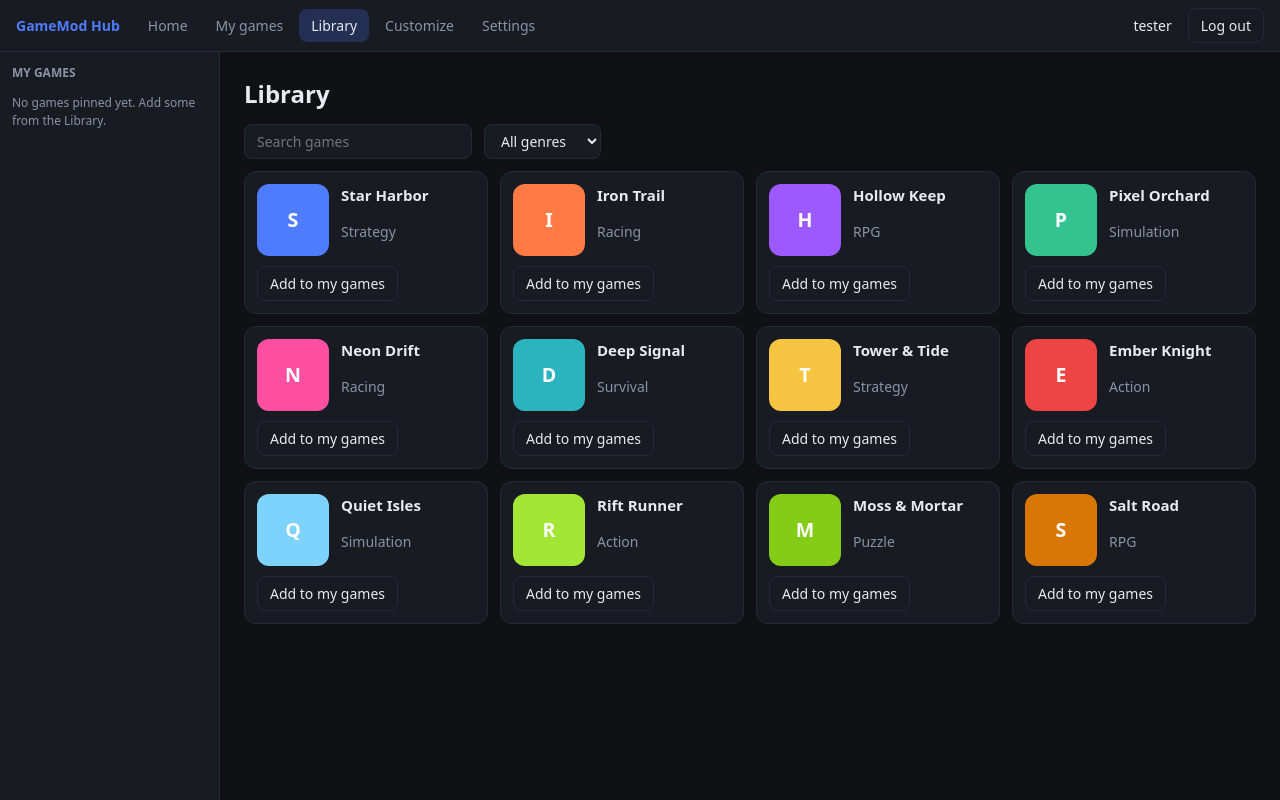
Test case: library › filters by search and genre, and adds to my games
Type "star" into the search field labelled "Search games".
click(358, 142); type("star")  # box [244,124,472,159]
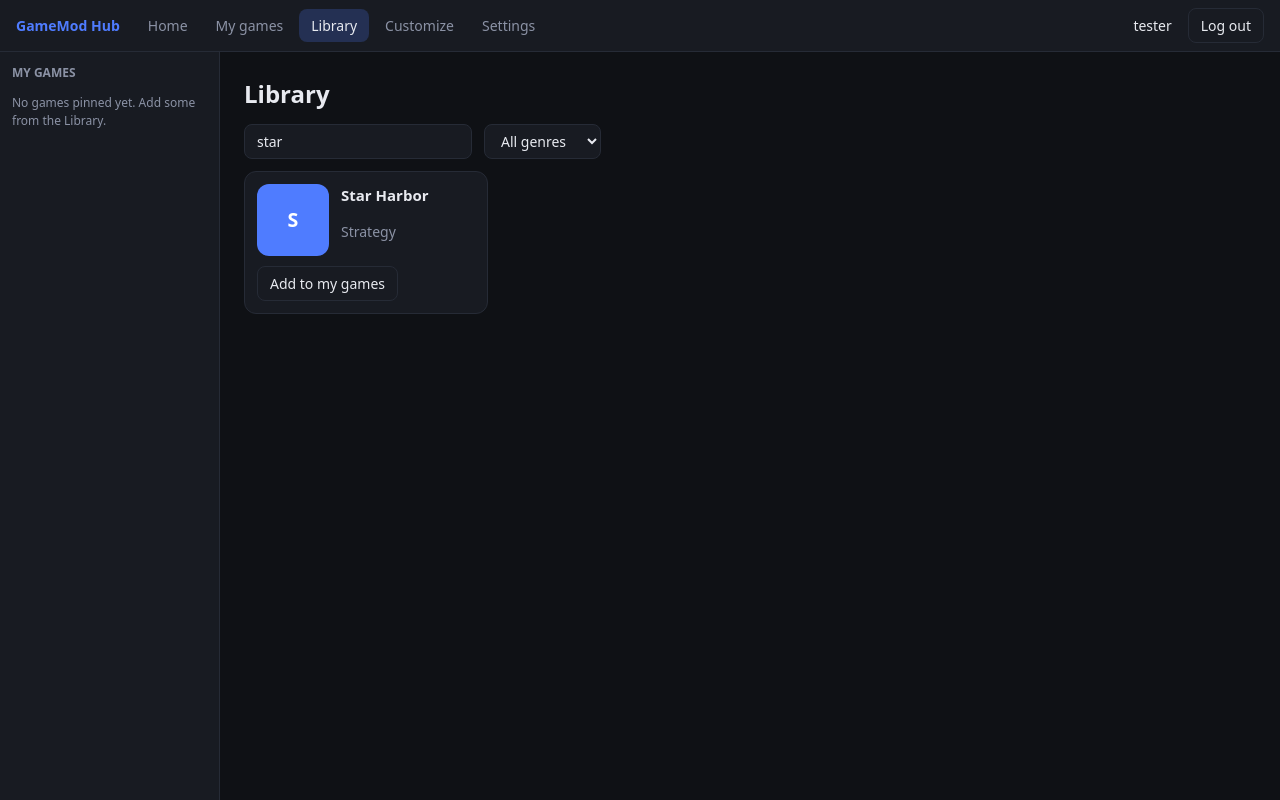
Replace the text in the search field named "Search games" with "zzz" at (358, 142), box [244,124,472,159]
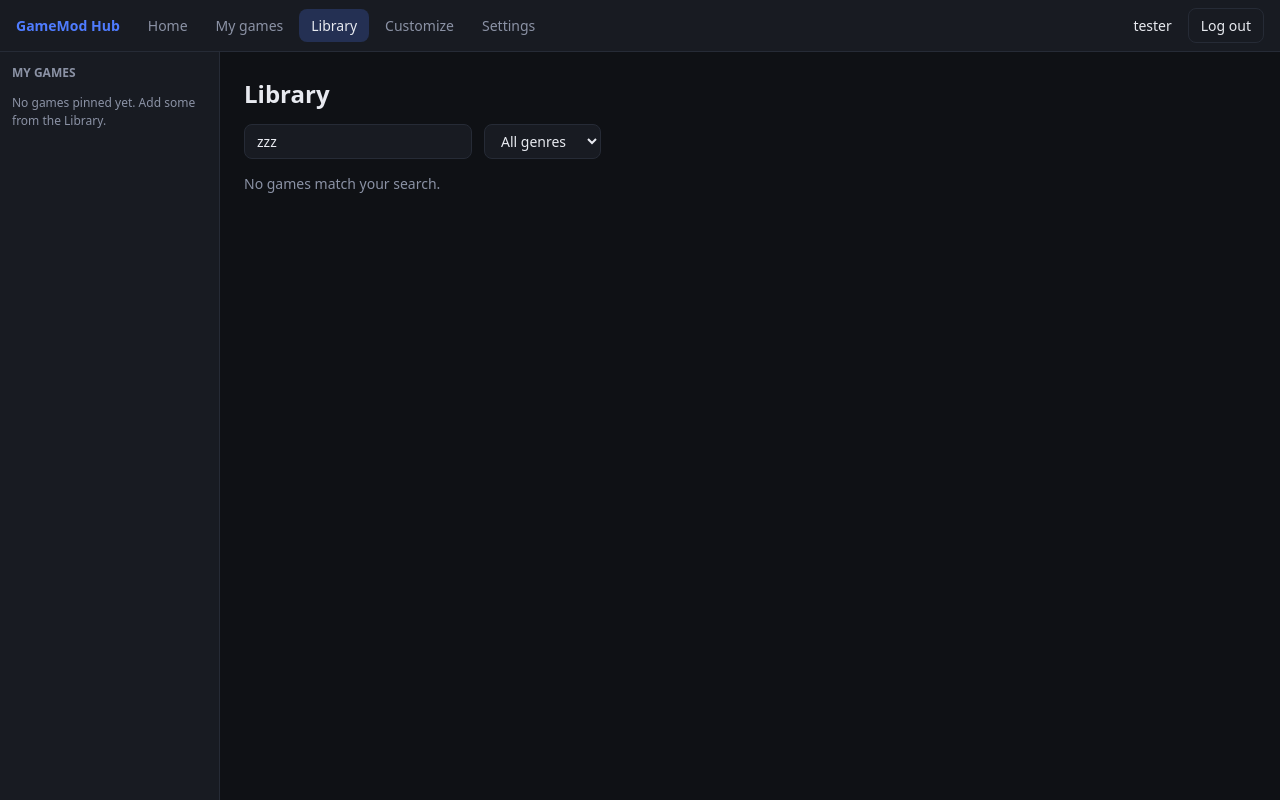
Check: the text "No games match your search." is shown, box [244,174,440,193]
Clear the search field named "Search games" at (358, 142), box [244,124,472,159]
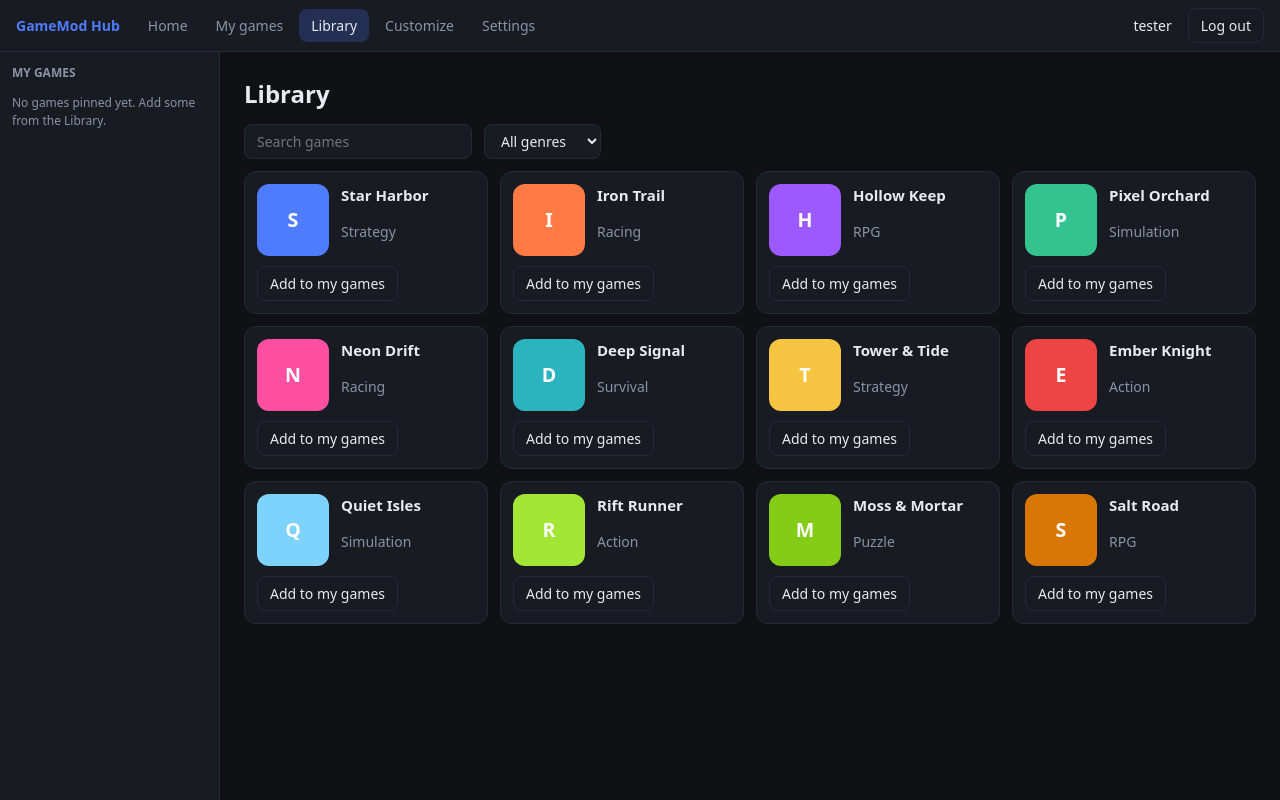
Select "Racing" in the dropdown named "Genre" at (542, 142), box [484,124,601,159]
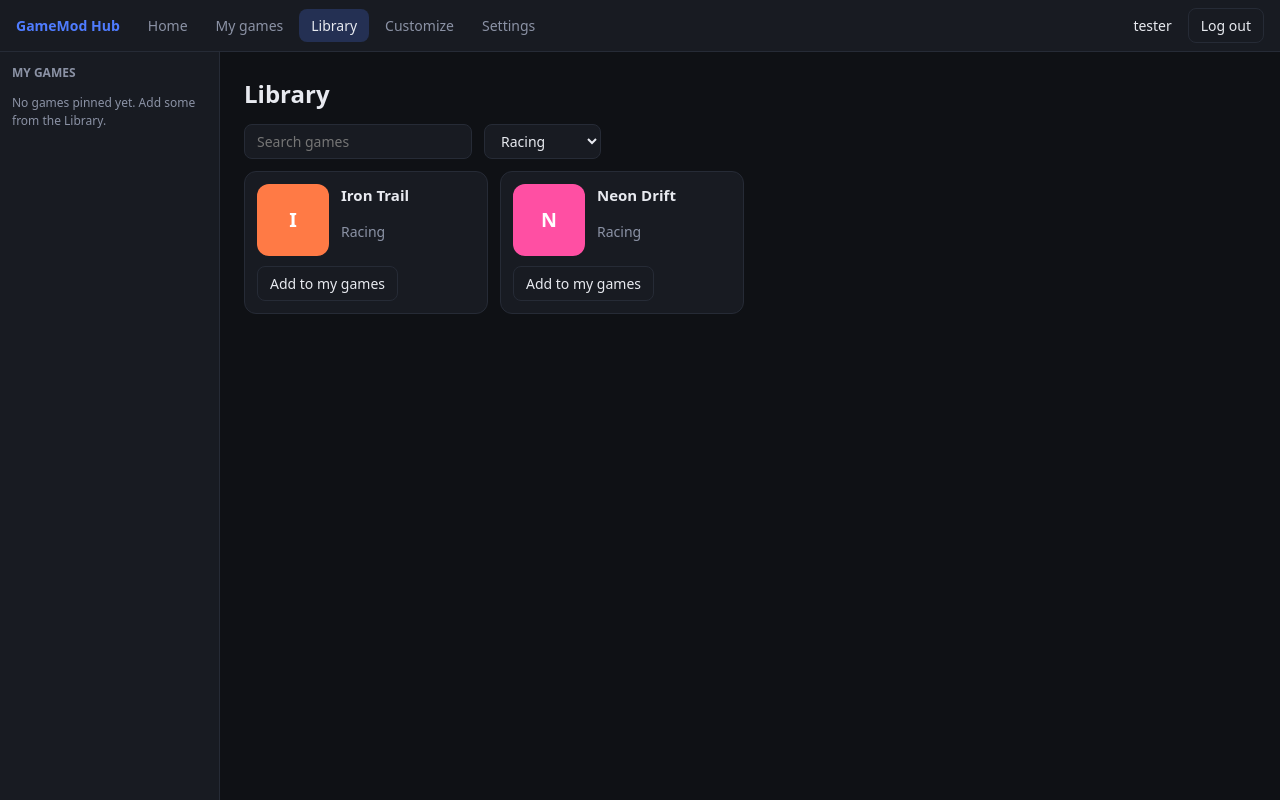
Click the button "Add to my games" below "Neon Drift".
click(584, 284)  # box [513,266,654,301]
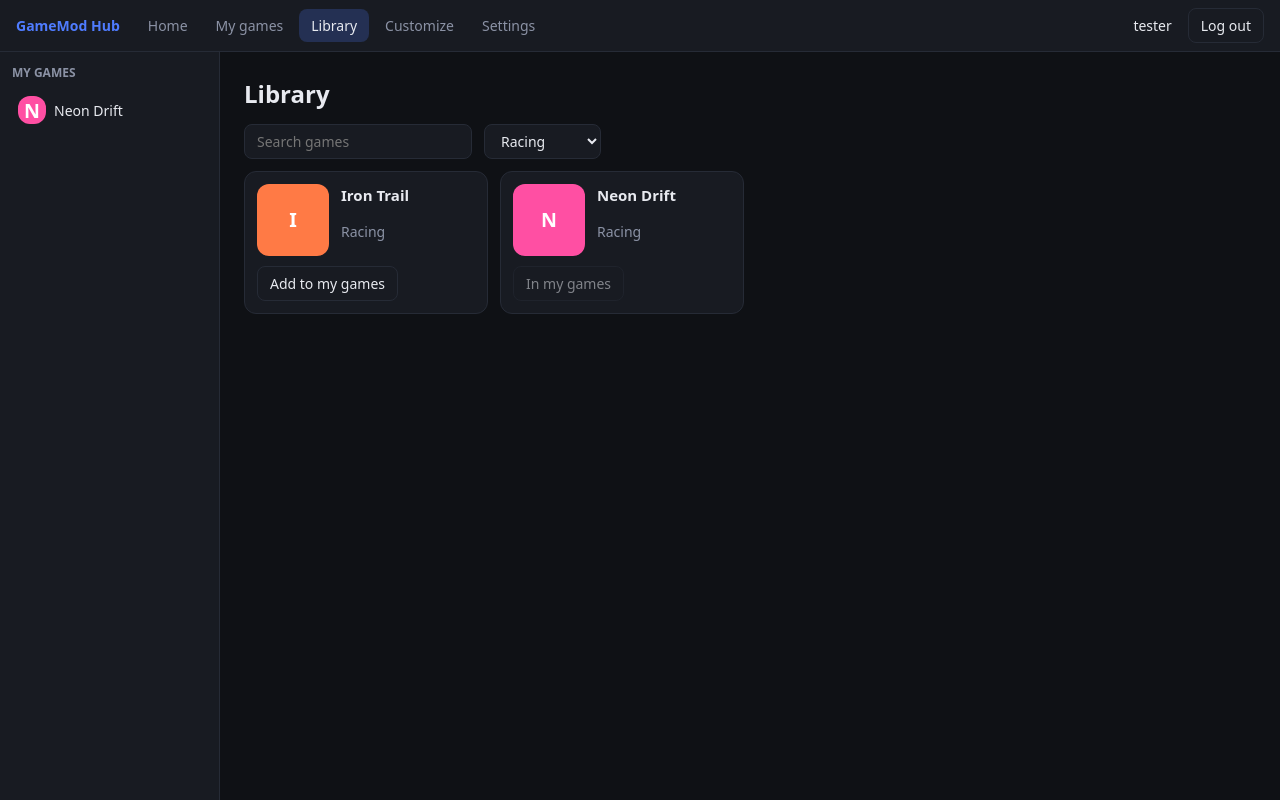
Check: the button "In my games" is disabled, box [513,266,624,301]
